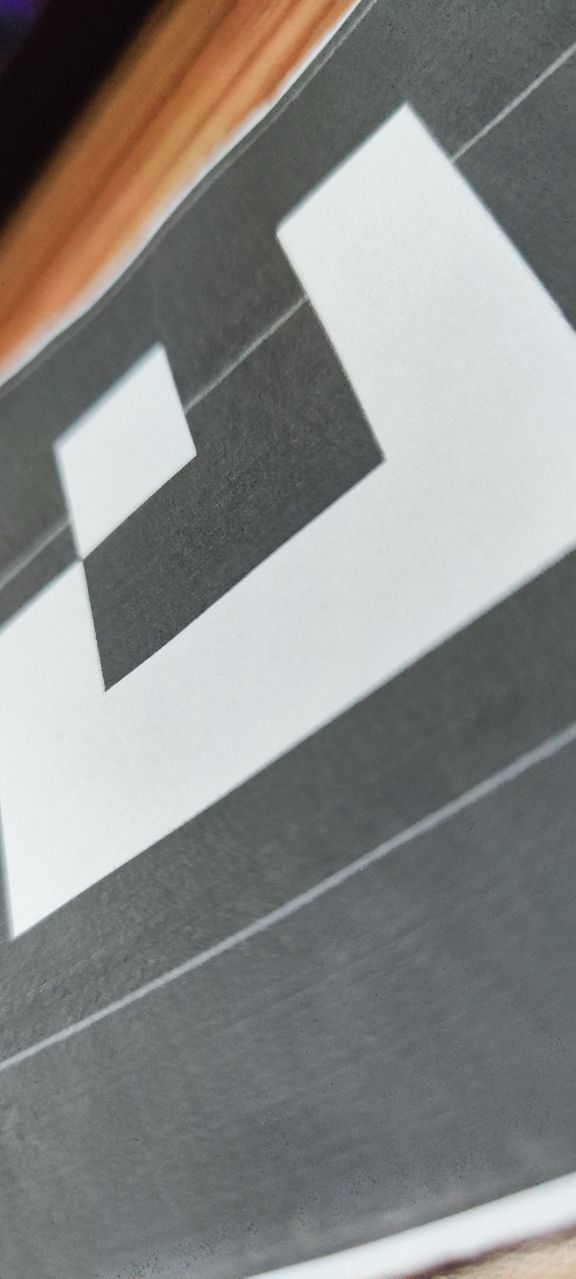mark1: (14, 101, 576, 969)
